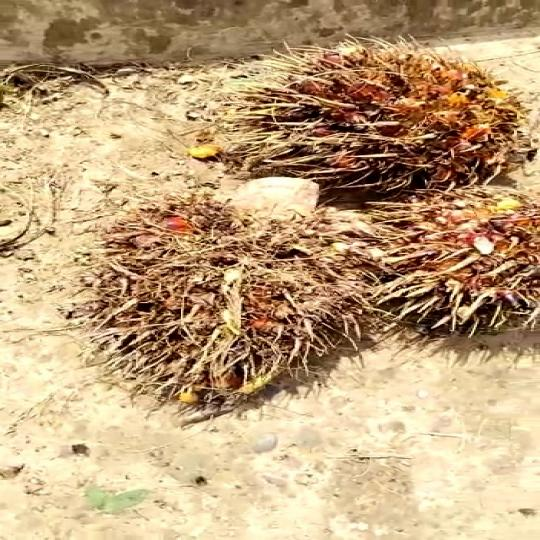terlalu masak: (71, 190, 380, 395), (181, 32, 540, 201), (350, 170, 540, 348)
